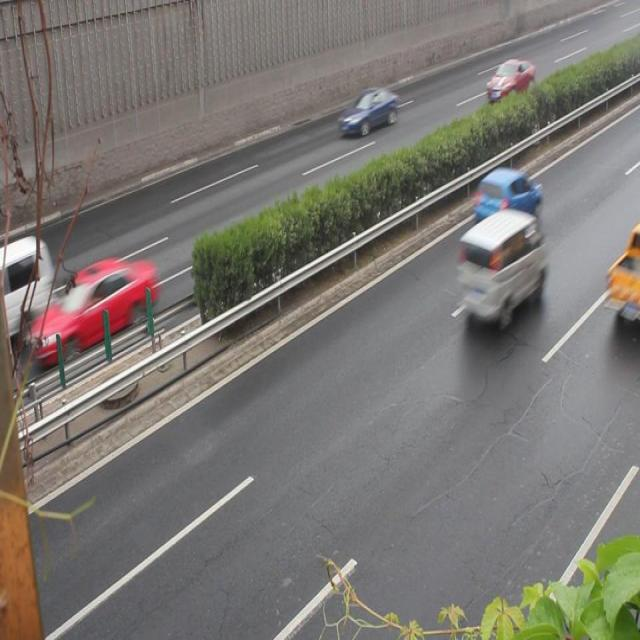bus: (603, 228, 640, 329)
car: (28, 255, 156, 365), (474, 166, 540, 231), (338, 88, 396, 138), (486, 59, 535, 106)
truck: (456, 208, 546, 328), (1, 235, 53, 329)
